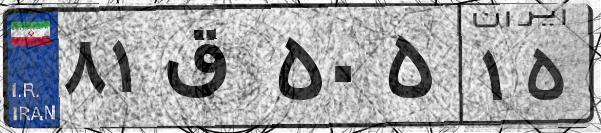0: (330, 28, 385, 110)
1: (475, 38, 525, 113), (110, 28, 158, 98)
5: (270, 28, 330, 110), (385, 28, 445, 110), (525, 38, 570, 115)
8: (57, 26, 110, 100)
ق: (158, 20, 270, 120)
